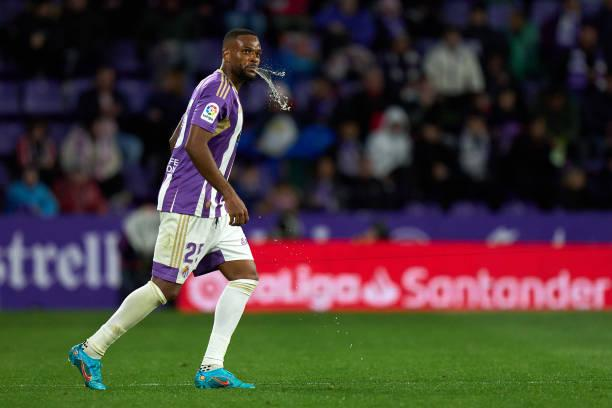Spitting: (206, 23, 316, 113)
